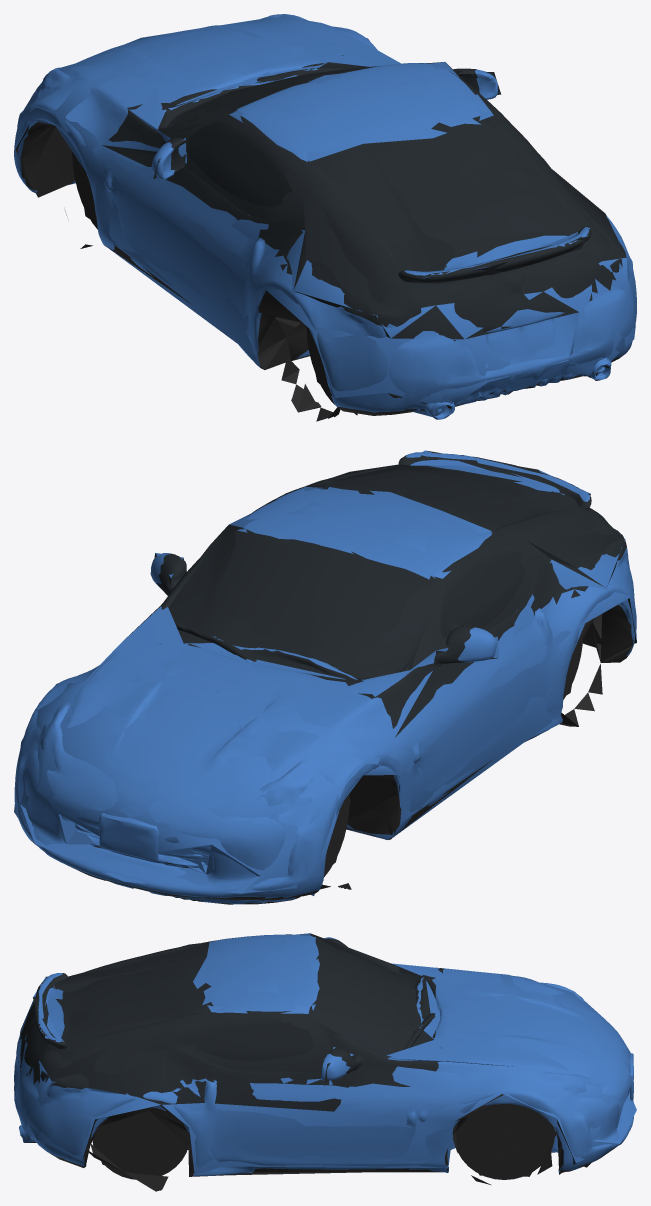
Rendered from nissan-370z.glb.
3 renders of one model, top to bottom at view 1: azimuth 30°, elevation 25°; view 2: azimuth 150°, elevation 25°; view 3: azimuth 270°, elevation 25°, orthographic. The views are drawn at different scales.
Parts seen in each view (by area): view 1: body, far; view 2: body, far; view 3: body, far.
Boxes of the visible parts, x1,y1,x2,y2 form: body: (14, 14, 636, 421); far: (15, 17, 635, 416); body: (14, 452, 636, 904); far: (14, 450, 636, 895); body: (14, 934, 633, 1191); far: (14, 933, 636, 1176).
Size of the model in its own units: 2.15 by 1.35 by 4.29.
